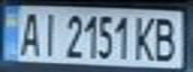1: (112, 12, 133, 61), (81, 11, 100, 58)
2: (60, 10, 84, 58)
5: (96, 11, 115, 60)
A: (15, 8, 42, 57)
B: (151, 15, 184, 62)
I: (36, 9, 60, 57)
K: (133, 14, 160, 62)
